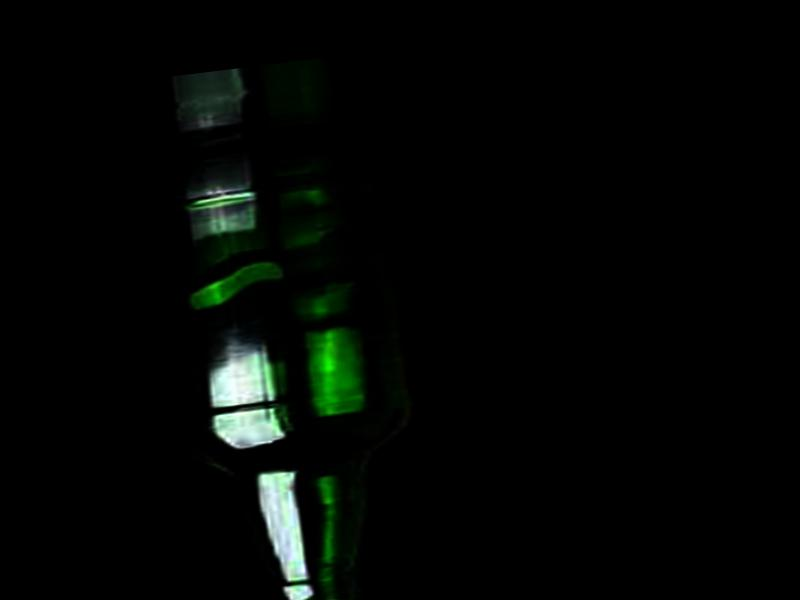Beer: (181, 172, 437, 600)
